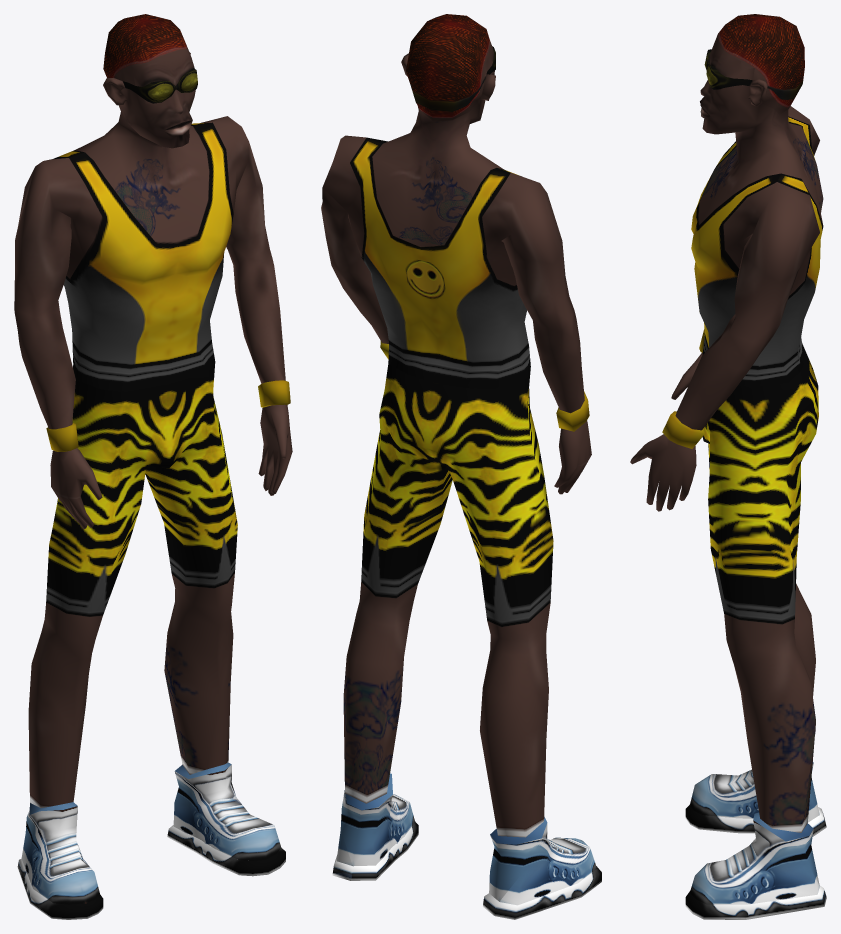
The model's file is MC Tiger.glb.
3 views of the same model, side by side, from view 1: azimuth 30°, elevation 25°; view 2: azimuth 150°, elevation 25°; view 3: azimuth 270°, elevation 25° (orthographic).
Visible parts, largest first — view 1: Tiger; view 2: Tiger; view 3: Tiger.
Part boxes in pixels (<box>): Tiger: <box>14,14,292,919</box>; Tiger: <box>321,14,601,919</box>; Tiger: <box>630,14,826,919</box>.
Bounding box in the file's own units: 1.65 × 5.39 × 1.13.
1 material, 1 textured.
